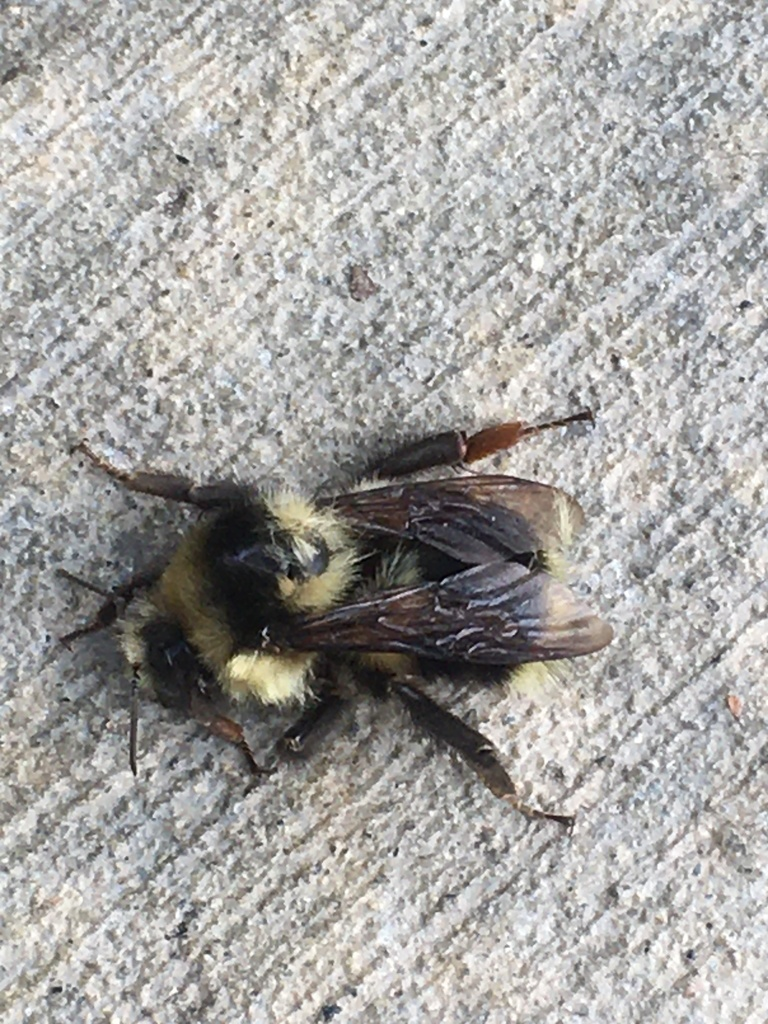bumblebee: (57, 407, 619, 837)
